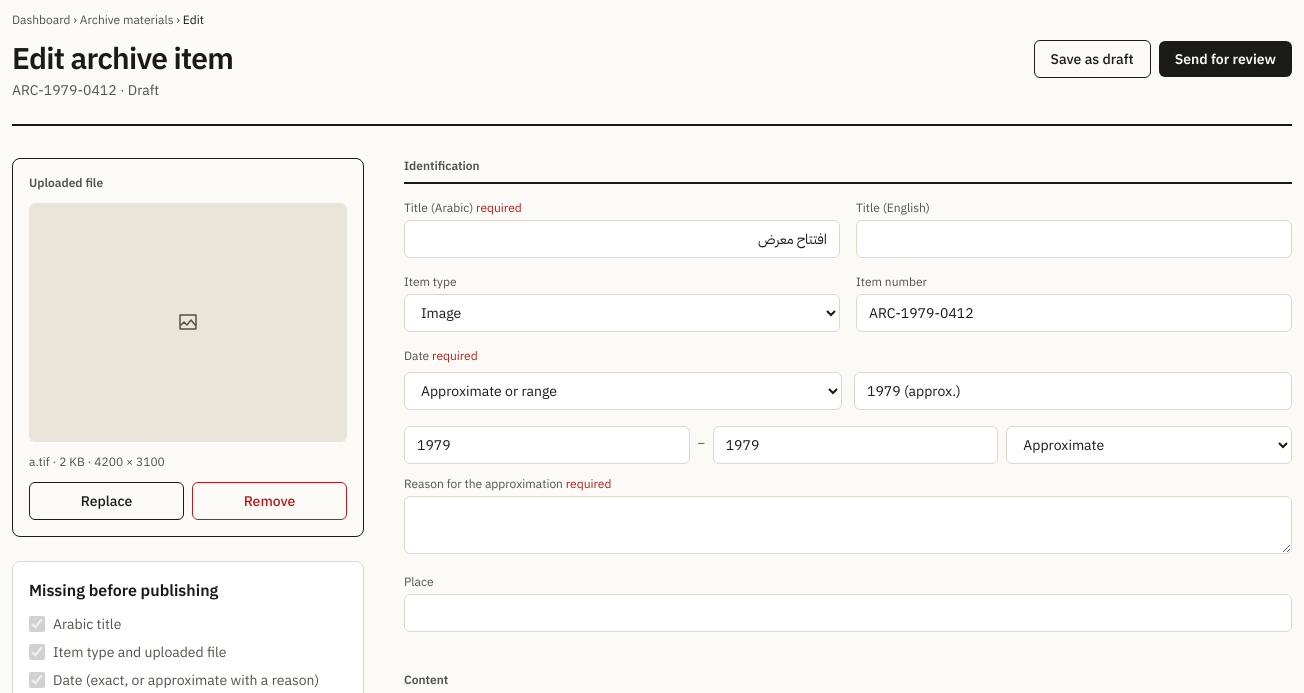
Test: ArchiveEditPage (edit) › submits for review once complete, saving the form first
Click the button with test id "send-review" at (1225,59), box [1159,41,1292,77]
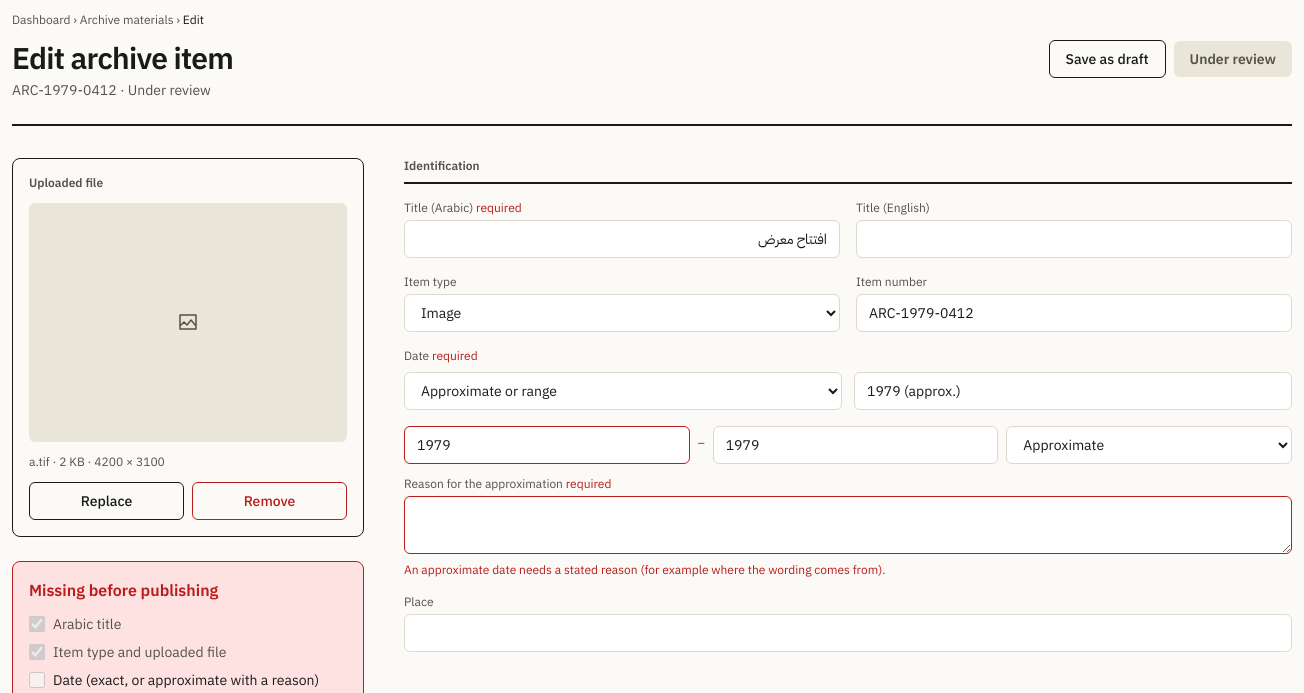
expect the button with test id "send-review" reads "Under review": met, box [1174,41,1292,77]
